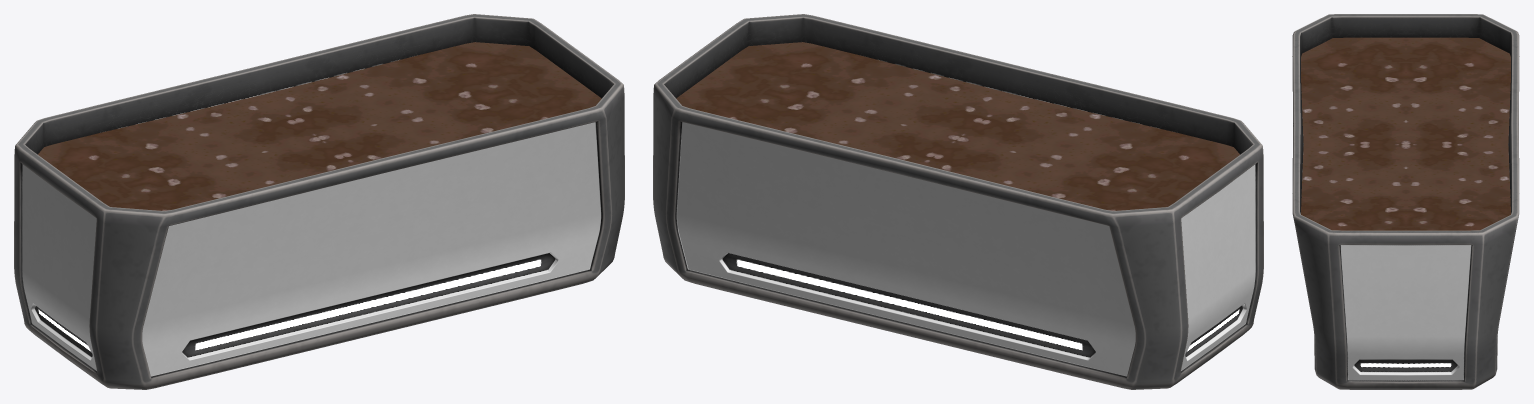
The model's file is Planter03_2.FBX.
3 views of the same model, side by side, from view 1: azimuth 30°, elevation 25°; view 2: azimuth 150°, elevation 25°; view 3: azimuth 270°, elevation 25° (orthographic). The views are drawn at different scales.
Parts seen in each view (by area): view 1: Planter03_2; view 2: Planter03_2; view 3: Planter03_2.
Boxes of the visible parts, x1,y1,x2,y2 form: Planter03_2: (14, 14, 624, 389); Planter03_2: (653, 14, 1263, 389); Planter03_2: (1292, 14, 1519, 389).
Size of what is drawn, in the model's own units: 1.45 by 0.4899 by 0.6213.
